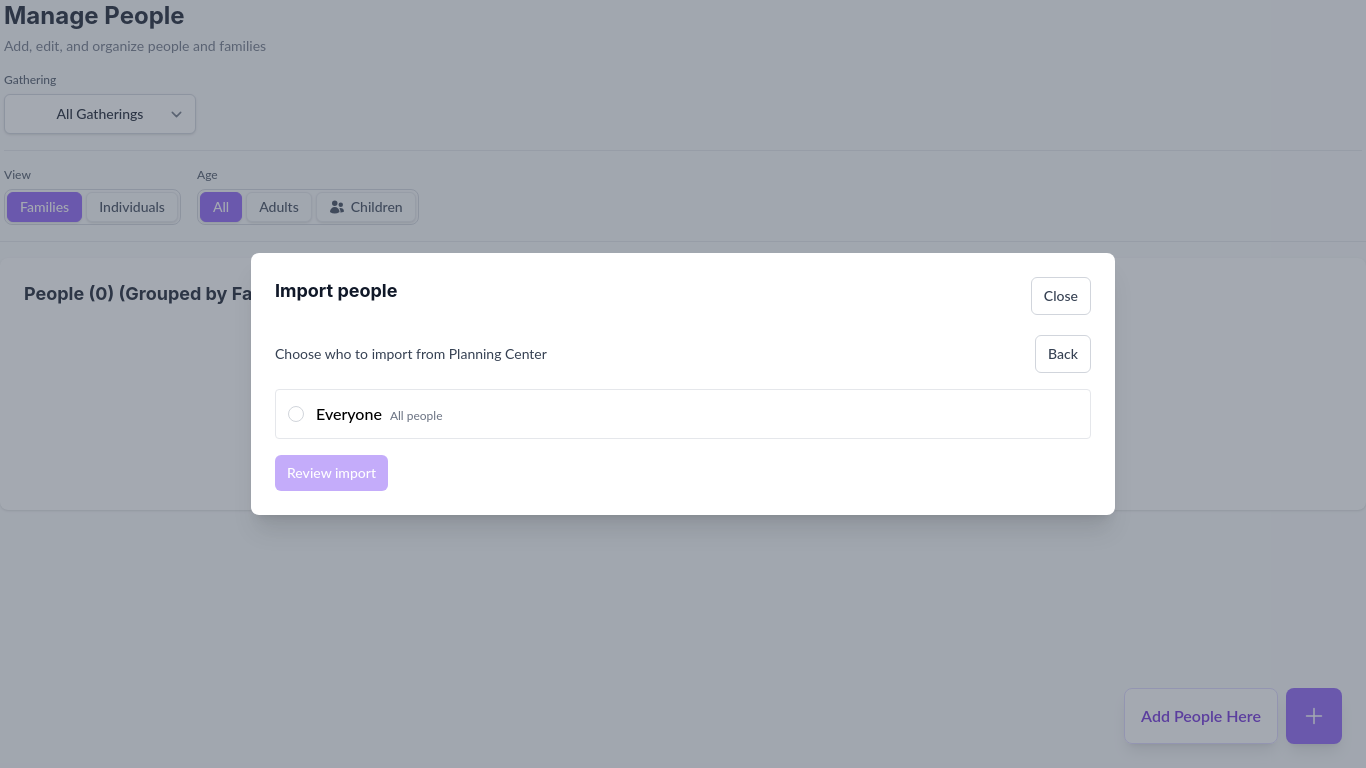
Test: PeoplePage provider import › resumes source selection after Planning Center connects, without applying an import
The image size is (1366, 768).
expect the radio button labelled "Everyone" is shown: met, box [288, 406, 304, 422]
Click the button "Close" at [1061, 296], box [1031, 277, 1091, 315]
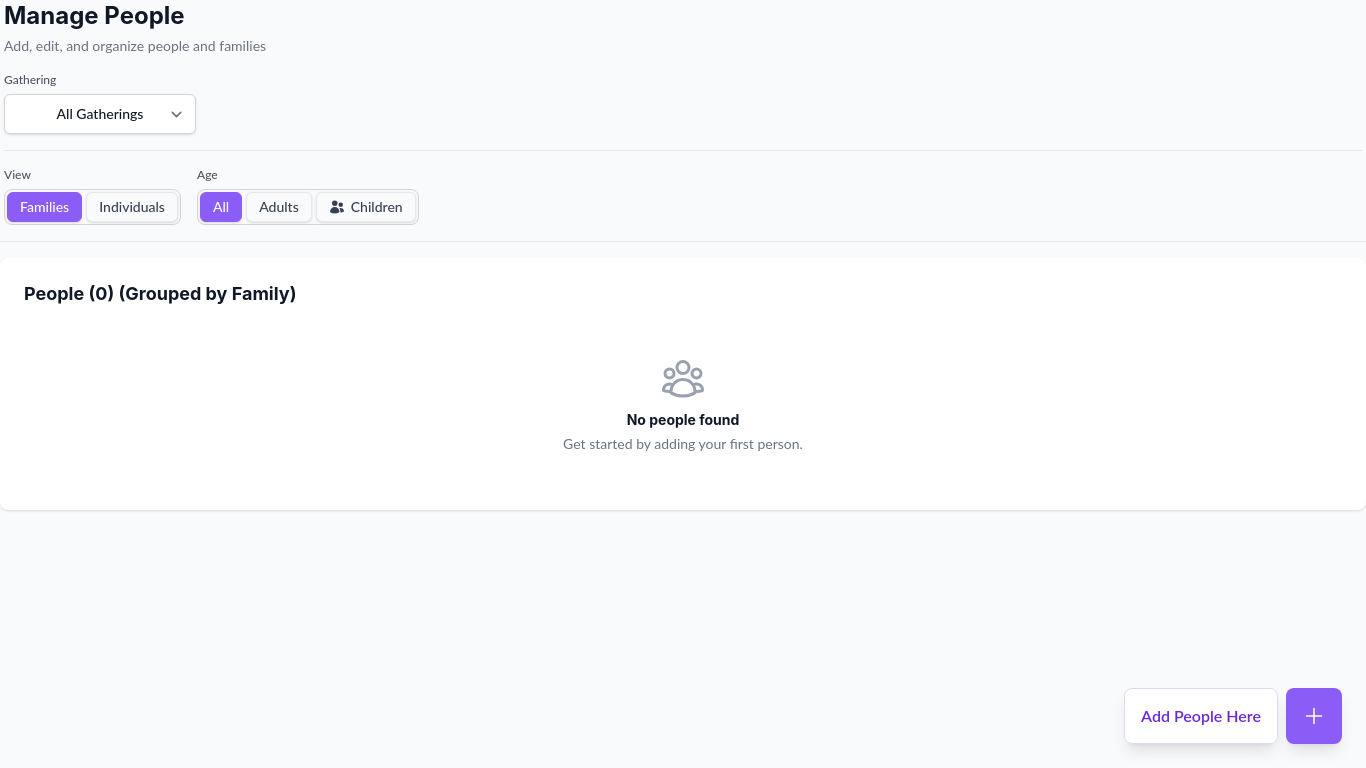
Click the button named "Add people" at [1314, 716], box [1286, 688, 1342, 744]
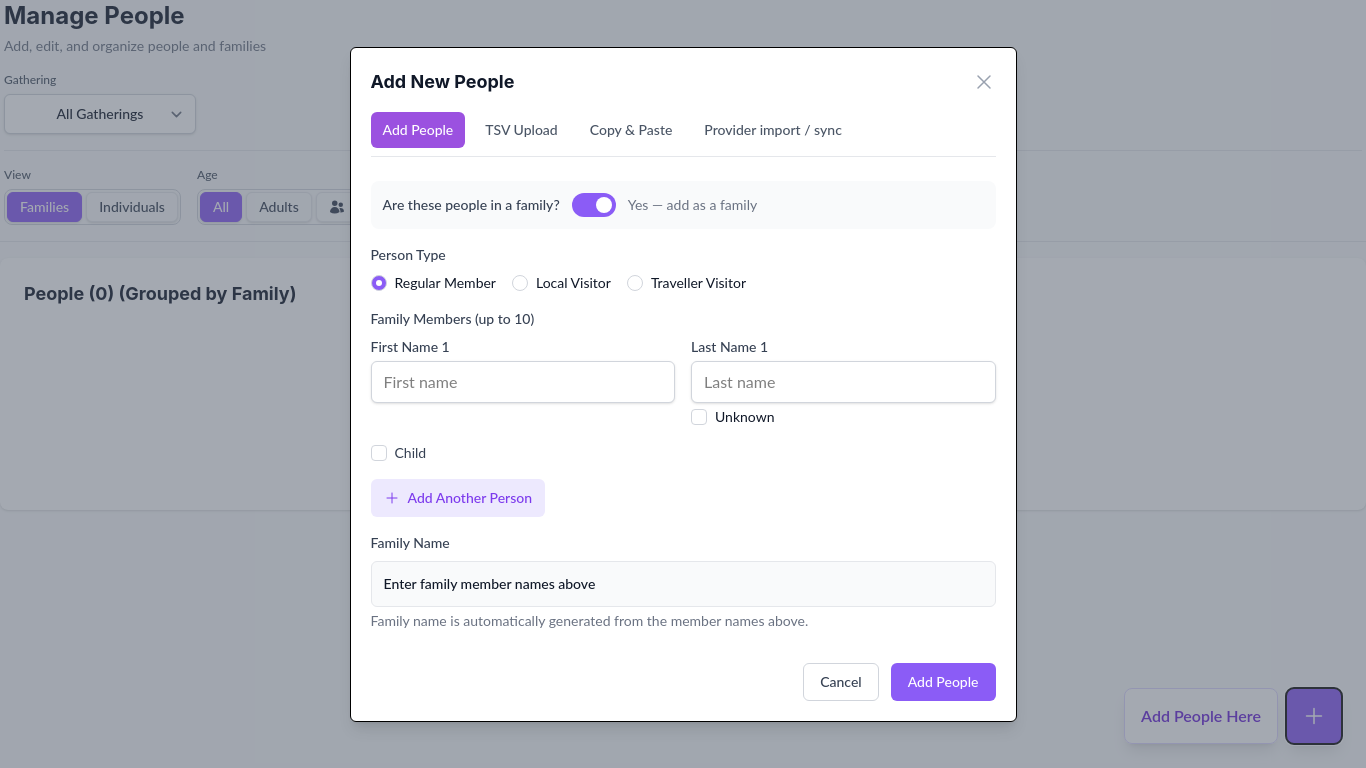
Click the tab "Provider import / sync" at [773, 130], box [692, 112, 854, 148]
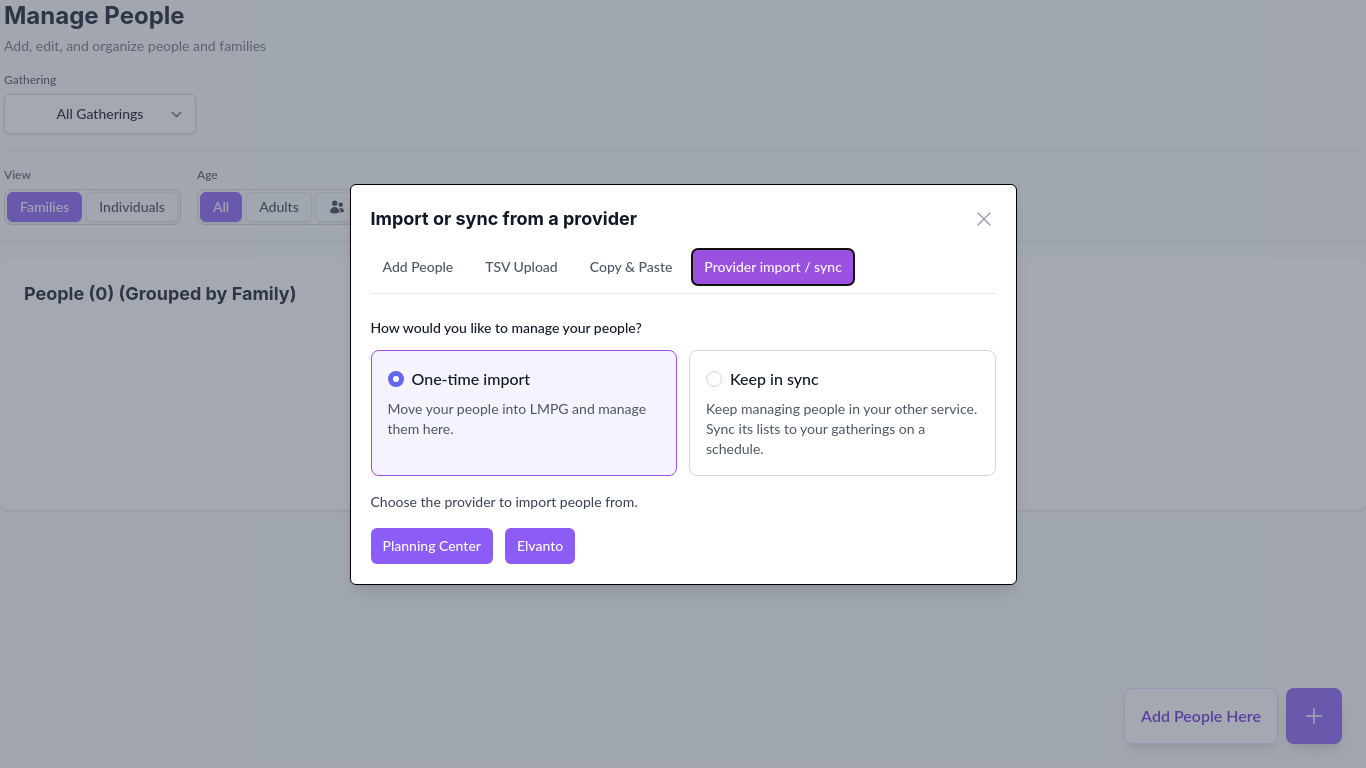
expect the text "Choose the provider to import people from." is shown: met, box [370, 492, 638, 510]
